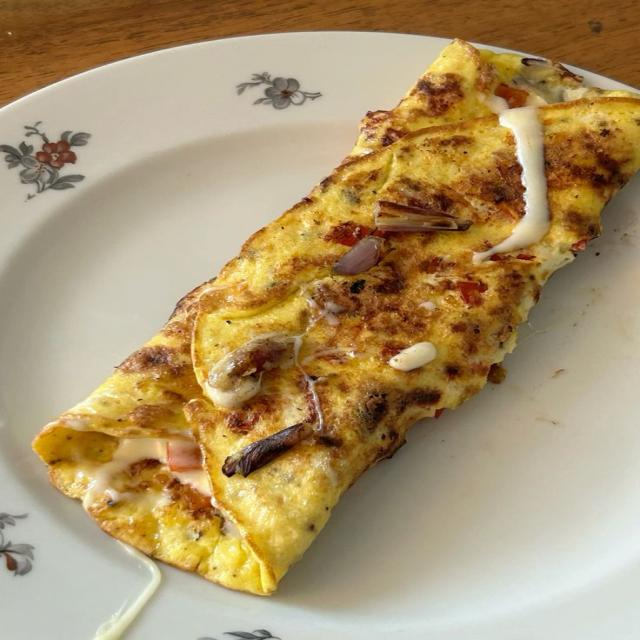omelette: (34, 42, 639, 593)
